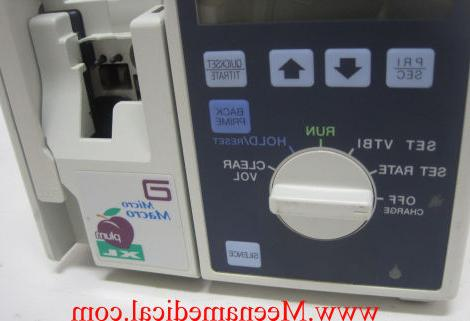plumxl1: (1, 1, 467, 299)
